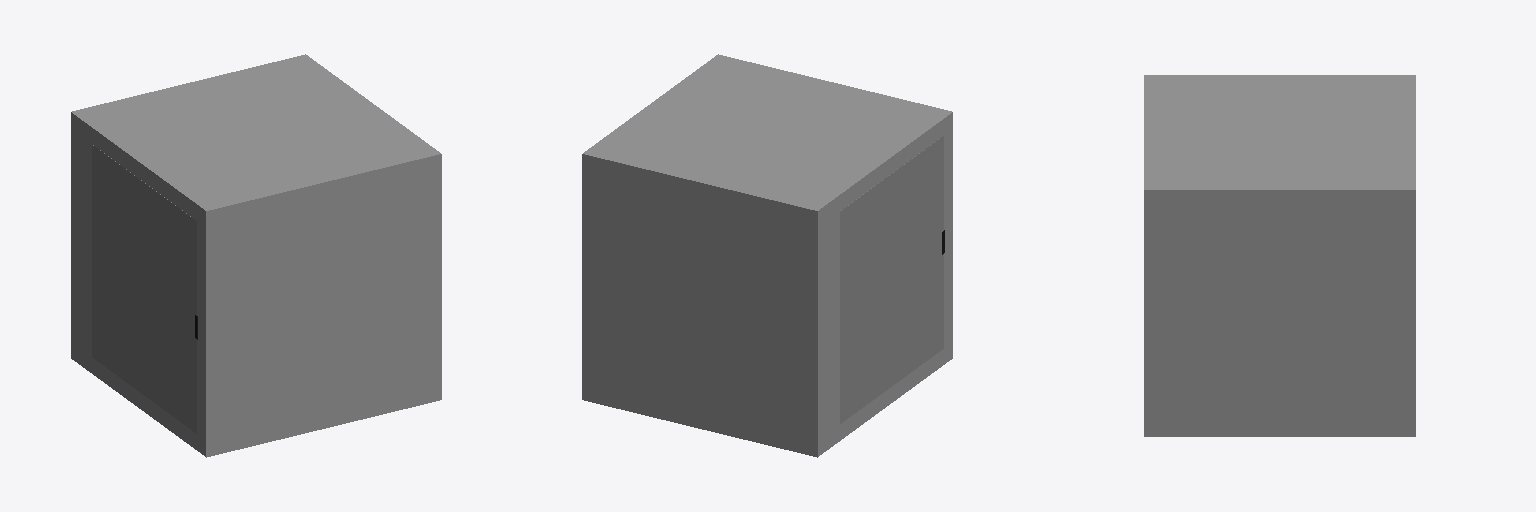
3 views of the same model, side by side, from view 1: azimuth 30°, elevation 25°; view 2: azimuth 150°, elevation 25°; view 3: azimuth 270°, elevation 25° (orthographic).
Visible parts, largest first — view 1: Minecraft_Block_Cube, Base_Cube.003, Minecraft_2_Edge_Connectivity_Cube.002; view 2: Minecraft_Block_Cube, Base_Cube.003, Minecraft_2_Edge_Connectivity_Cube.002; view 3: Minecraft_Block_Cube, Minecraft_2_Edge_Connectivity_Cube.002.
Part boxes in pixels (bbox=[...]): Minecraft_Block_Cube: bbox=[72, 54, 441, 457]; Base_Cube.003: bbox=[92, 145, 196, 433]; Minecraft_2_Edge_Connectivity_Cube.002: bbox=[71, 112, 255, 456]; Minecraft_Block_Cube: bbox=[582, 54, 951, 457]; Base_Cube.003: bbox=[840, 136, 943, 423]; Minecraft_2_Edge_Connectivity_Cube.002: bbox=[768, 112, 952, 456]; Minecraft_Block_Cube: bbox=[1144, 76, 1415, 436]; Minecraft_2_Edge_Connectivity_Cube.002: bbox=[1144, 75, 1415, 131].
Size of the model in its own units: 1 by 1 by 1.
Materials: 5 (1 with a texture image).